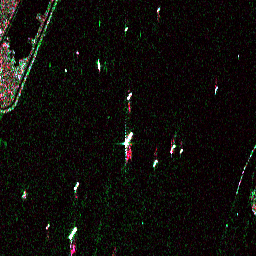ship: (121, 129, 135, 147), (66, 226, 79, 241), (71, 180, 81, 191), (124, 90, 134, 101), (95, 58, 102, 69), (150, 158, 158, 167)
